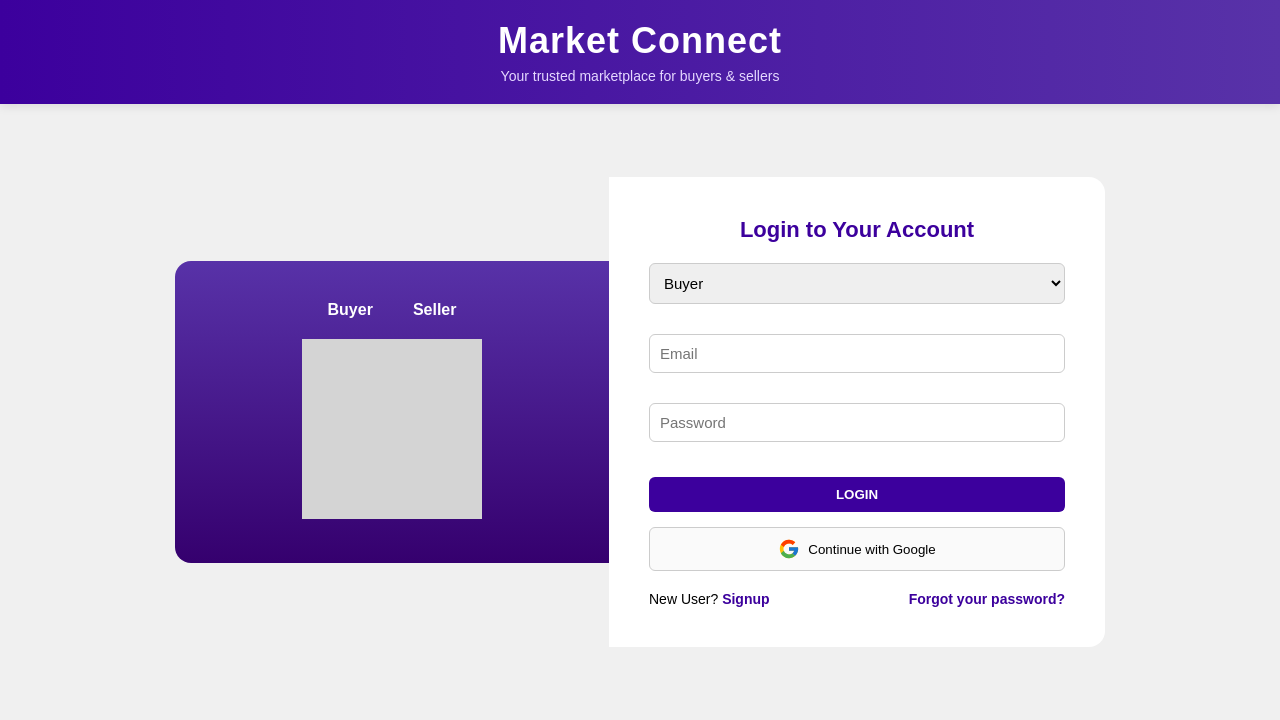
it: Login › validates email or phone format
The image size is (1280, 720).
Type "invalid" into the field with placeholder "Email".
click(857, 354); type("invalid")  # box [649, 334, 1065, 373]
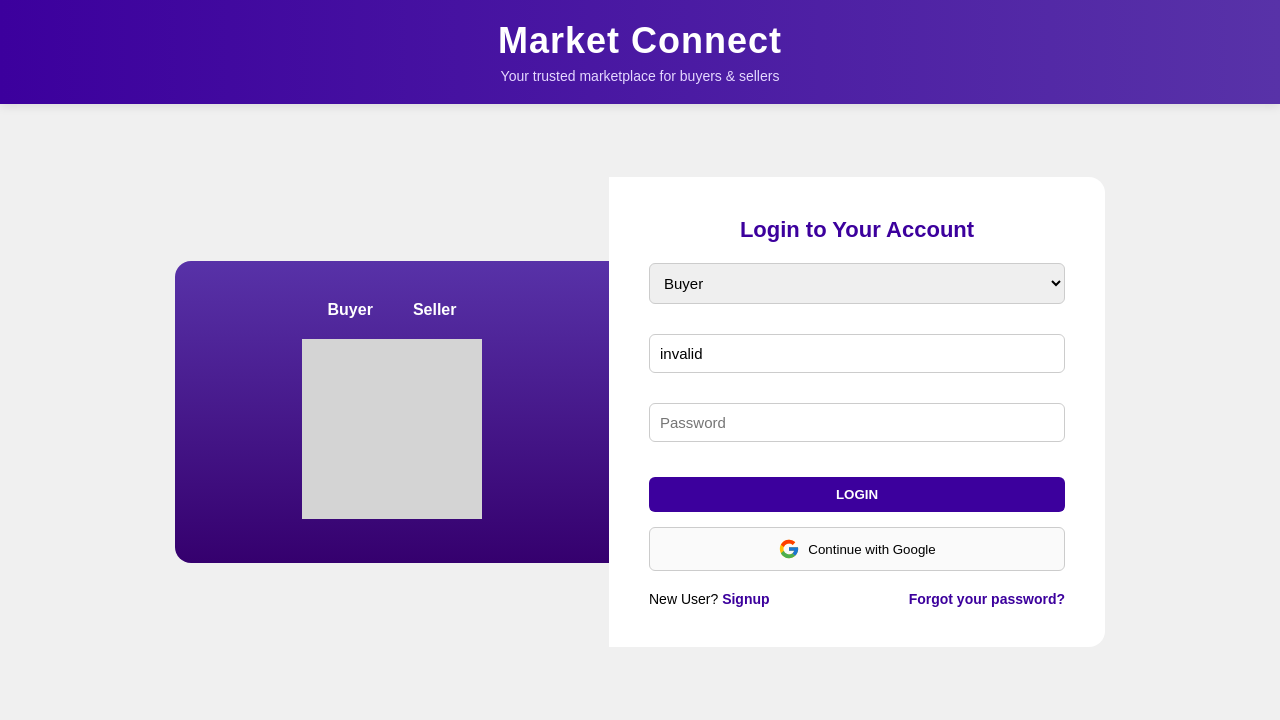
Type "Password1!" into the password field with placeholder "Password".
click(857, 422); type("Password1!")  # box [649, 403, 1065, 442]
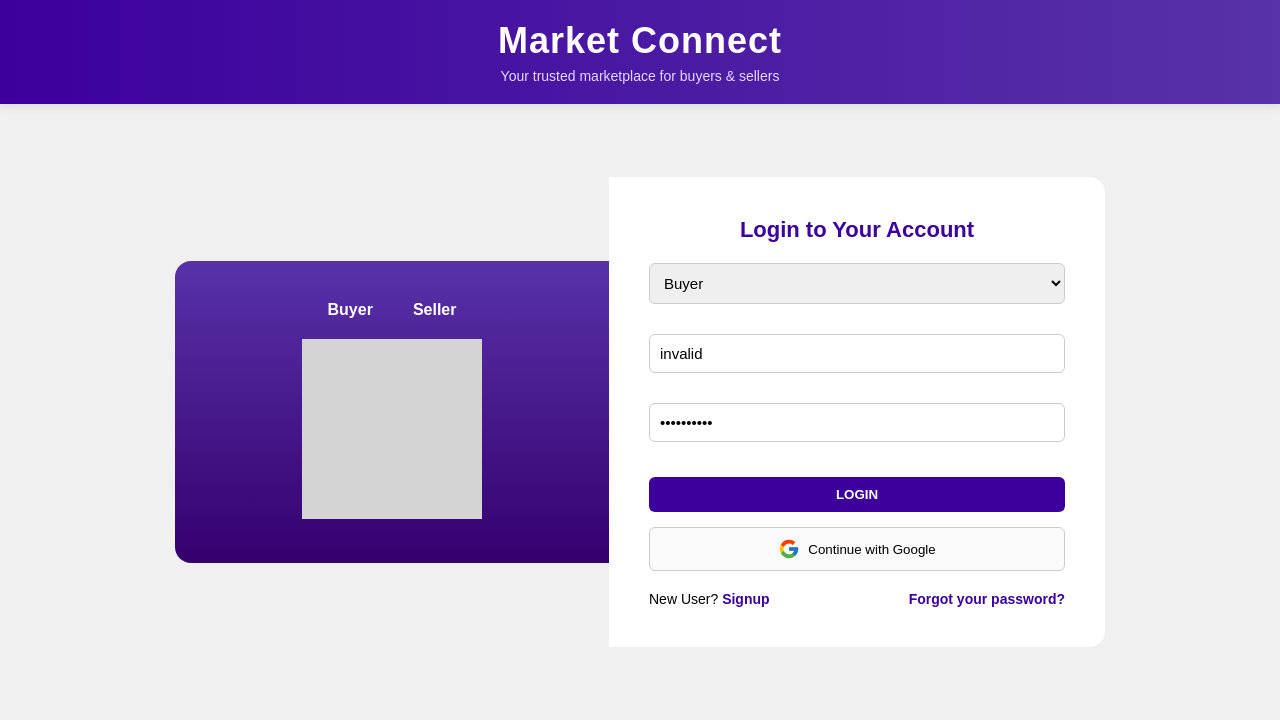
Click the button "LOGIN".
click(857, 494)  # box [649, 477, 1065, 512]
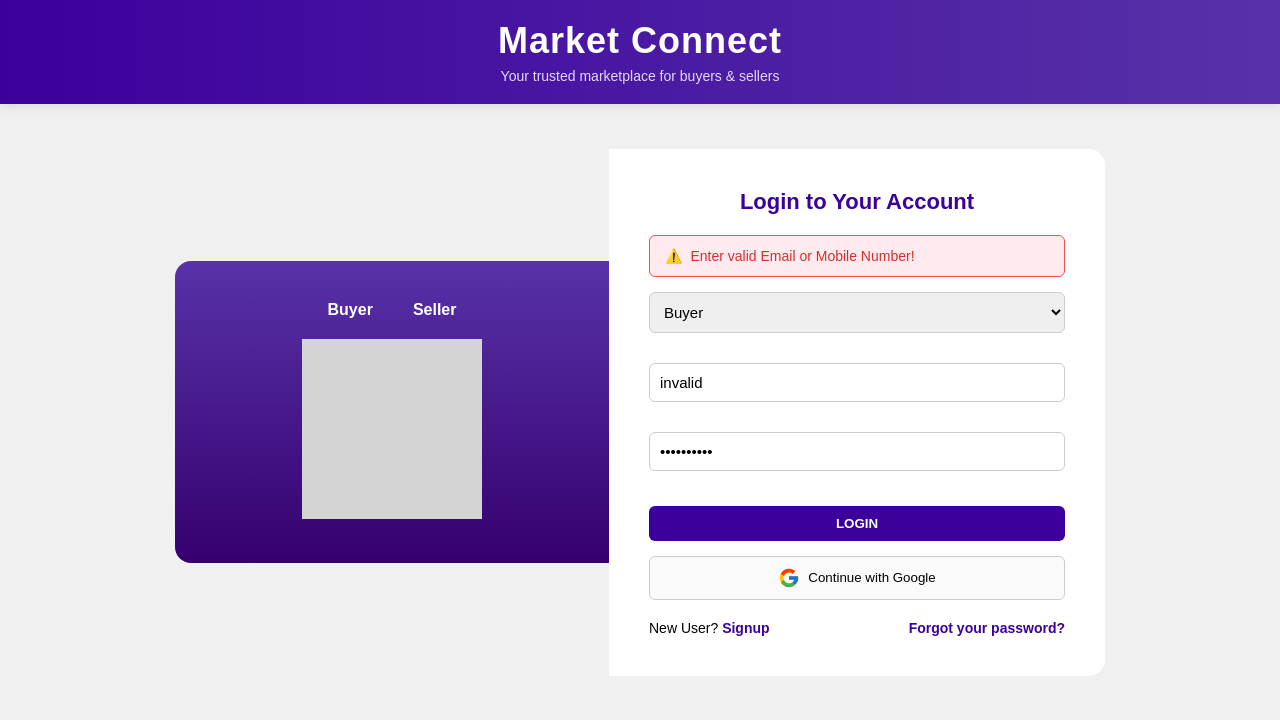
Expected: the text "Enter valid Email or Mobile Number!" is shown, [690, 248, 915, 264]
